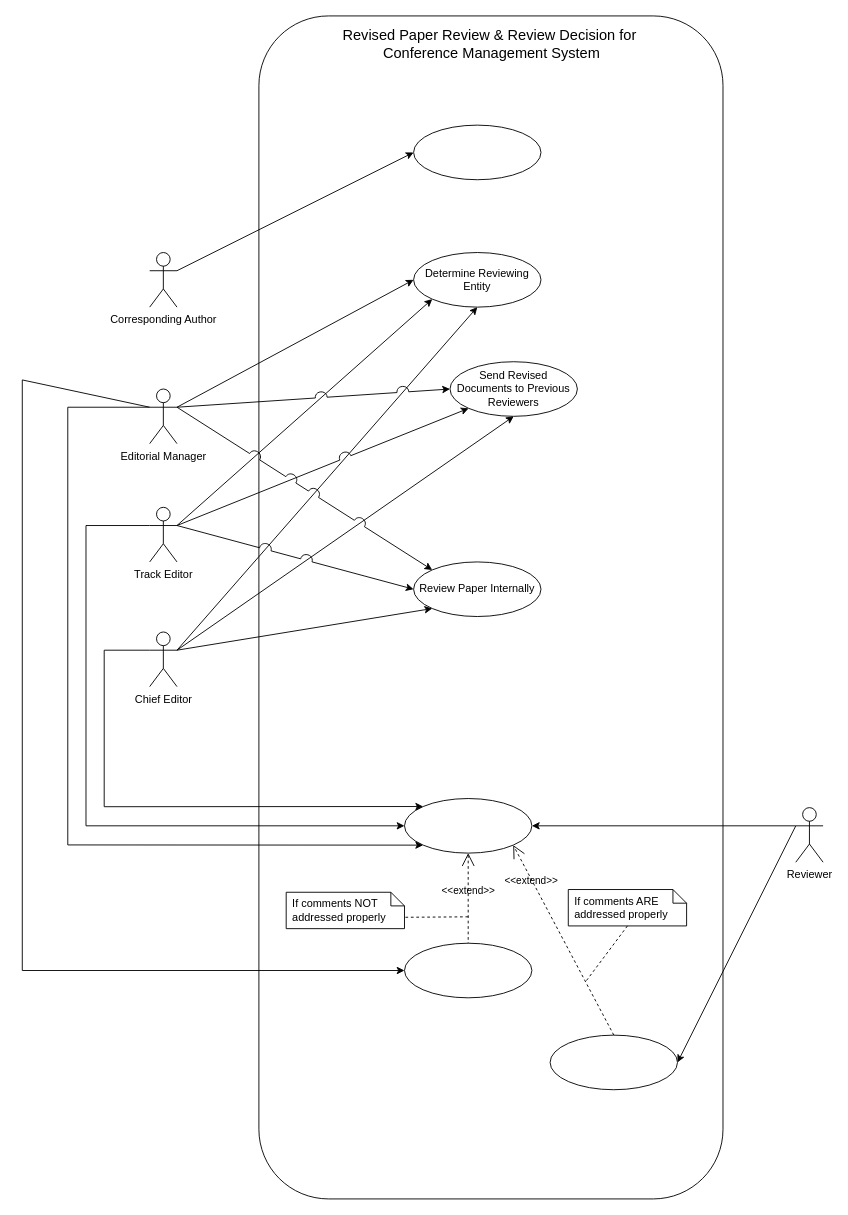
Some shapes in this 848 by 1215 pixel diagram are drawn without their labels. The centre of each missing label's shape, as x and y in pixels:
Evaluate Revised Paper & Confirm Fixes: the point at 468,825
Request Camera-Ready Paper: the point at 613,1062
Send Back for Re-revision: the point at 468,970
Upload Revised Paper & Comment File: the point at 477,152
